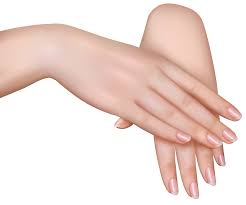hand: (37, 13, 239, 147), (129, 0, 243, 198)
